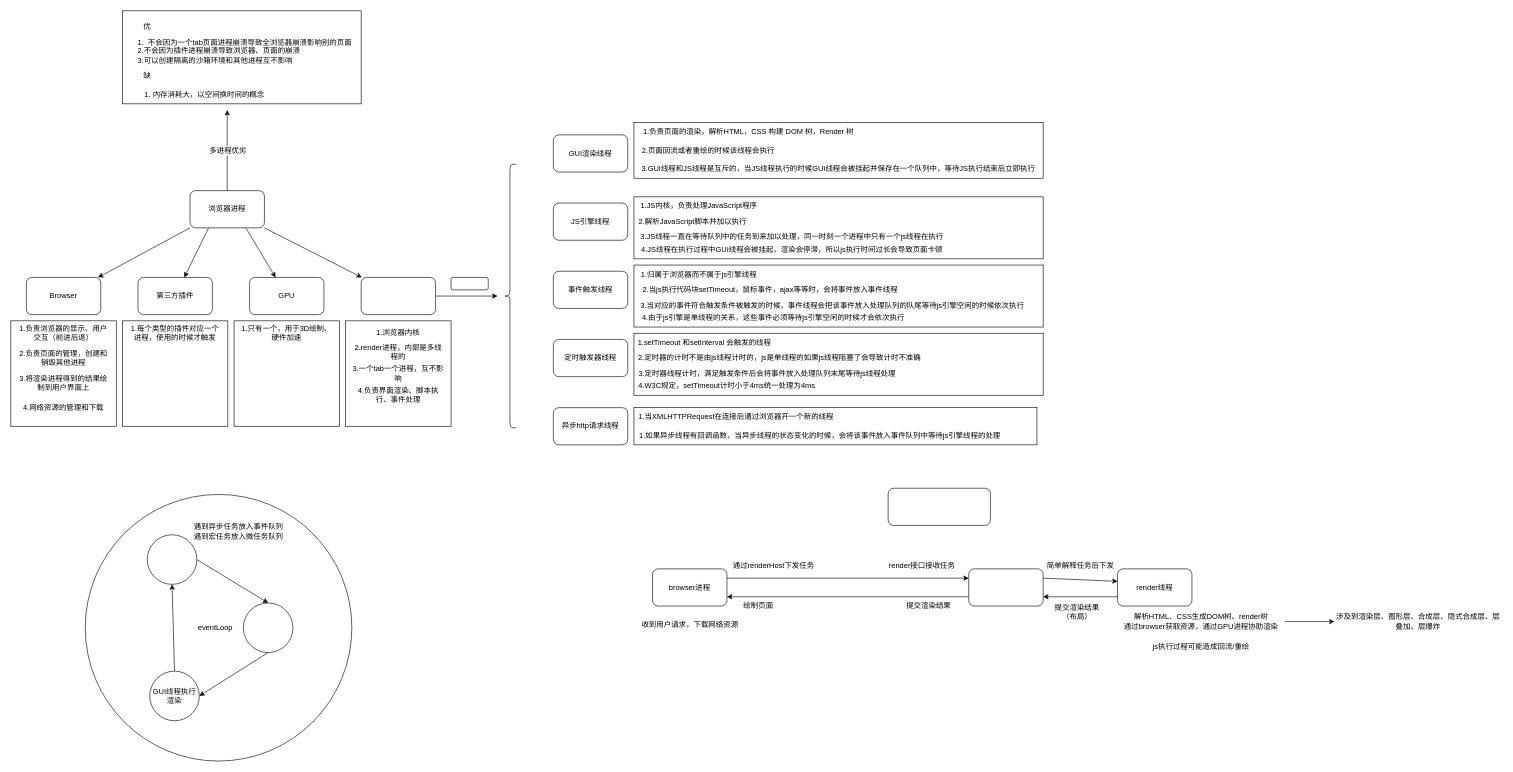
This 1513x772 diagram has some shape labels left out. The box of each missing label's shape, as (x1, y1, x2, y2) in pixels:
render进程: (968, 568, 1043, 606)
宏任务（从事件队列中取）: (147, 534, 197, 584)
微任务依次执行: (243, 602, 293, 653)
浏览器渲染: (361, 277, 436, 315)
线程: (450, 277, 488, 290)
通信 browser进程 && render进程: (888, 488, 990, 525)
